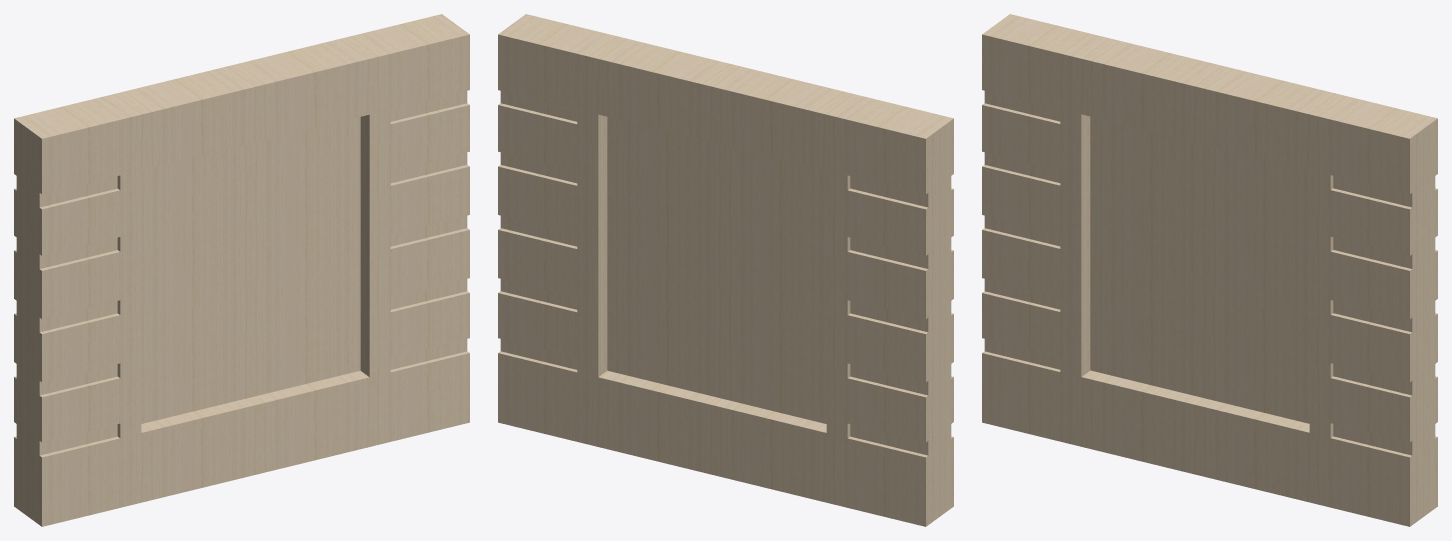
File: Gallery_Stand02.FBX
3 views of the same model, side by side, from view 1: azimuth 30°, elevation 25°; view 2: azimuth 150°, elevation 25°; view 3: azimuth 330°, elevation 25° (orthographic).
Parts seen in each view (by area): view 1: Gallery_Stand02; view 2: Gallery_Stand02; view 3: Gallery_Stand02.
Part boxes in pixels (x1,y1,x2,y2): Gallery_Stand02: (14, 14, 469, 526); Gallery_Stand02: (498, 14, 953, 526); Gallery_Stand02: (982, 14, 1437, 526).
Size of the model in its own units: 118 by 13.39 by 102.
